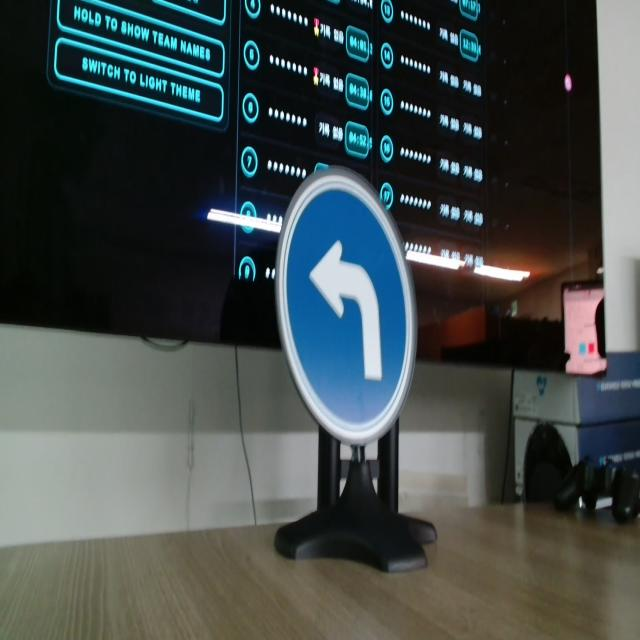left_direction: (273, 170, 421, 452)
